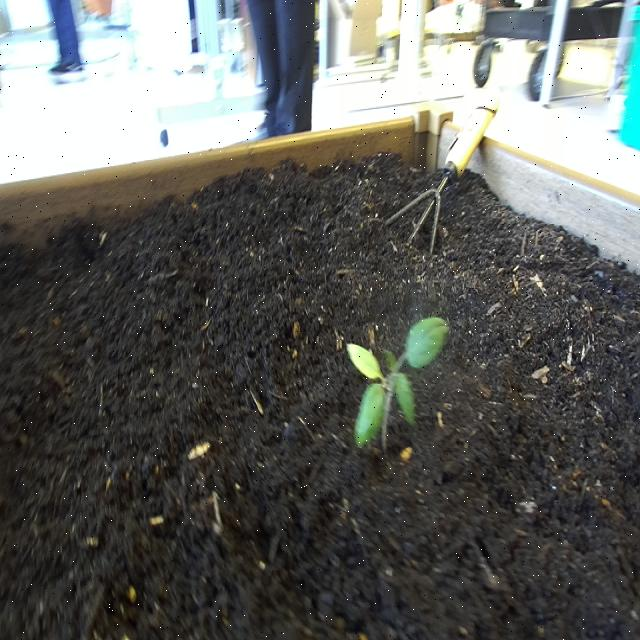Healthy: (340, 310, 449, 455)
